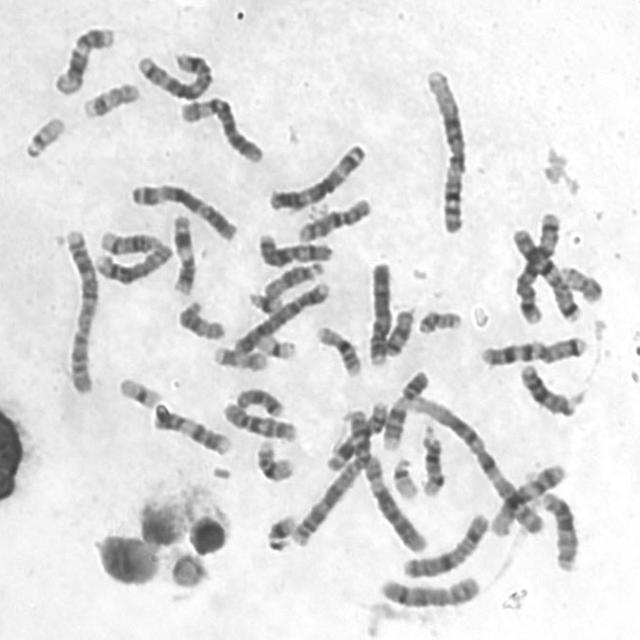A1: (406, 390, 546, 537), (421, 62, 468, 236)
A2: (287, 438, 375, 548), (58, 220, 100, 398)
A3: (263, 138, 369, 212), (126, 178, 239, 243)
B4: (228, 277, 332, 357), (364, 257, 394, 368)
B5: (509, 206, 563, 328), (133, 47, 215, 102)
C10: (293, 193, 374, 245), (218, 398, 300, 443)
C11: (322, 395, 390, 473), (168, 210, 198, 296)
C12: (486, 459, 570, 538), (50, 21, 116, 97)
C6: (361, 449, 429, 555), (176, 91, 266, 166)
C7: (507, 220, 584, 324), (476, 331, 589, 368)
C8: (374, 571, 483, 611), (90, 239, 174, 287)
C9: (148, 401, 234, 458), (378, 365, 432, 452)
D13: (516, 358, 581, 418), (536, 488, 581, 574)
D14: (417, 421, 447, 498), (95, 225, 164, 257)
D15: (260, 258, 326, 301), (174, 296, 228, 342)
E16: (312, 322, 363, 378), (252, 435, 296, 483)
E17: (78, 78, 142, 121), (209, 342, 270, 373)
E18: (380, 303, 416, 358), (232, 383, 287, 418)
F19: (115, 372, 163, 411), (254, 330, 298, 362)
F20: (556, 261, 606, 304), (414, 305, 464, 337)
G21: (262, 509, 298, 554), (244, 288, 284, 316)
G22: (20, 111, 68, 161), (387, 452, 421, 501)
X: (399, 508, 492, 580), (253, 227, 334, 268)
